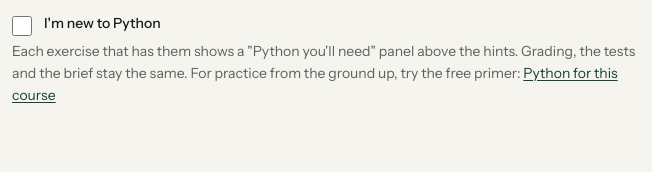
Test: the I'm new to Python toggle › starts as saved and saves a change at once
Click the checkbox labelled "I'm new to Python" at (22, 26), box x1=12 y1=16 x2=32 y2=36
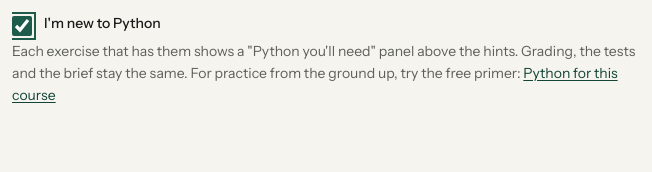
Expected: the checkbox labelled "I'm new to Python" is checked, x1=12 y1=16 x2=32 y2=36
